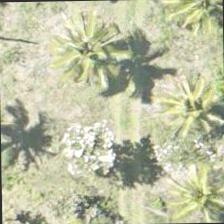Kelapa_Sawit: (47, 7, 139, 98), (143, 65, 223, 157), (152, 152, 223, 224), (157, 0, 223, 52)
